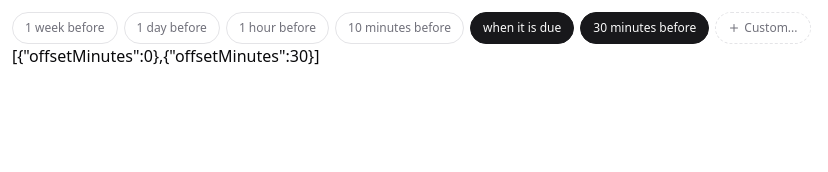
Test: TimerReminderChips › keeps offsets that are not presets as selected chips
Click the button "30 minutes before" at (645, 28), box 580,12 -> 709,44
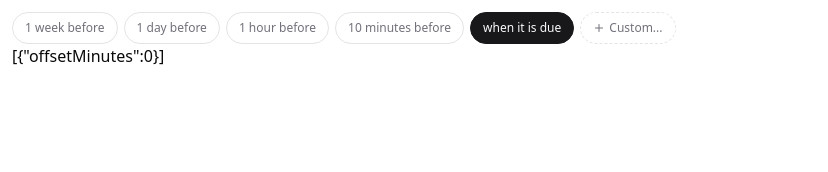
Result: the button "30 minutes before" is gone
